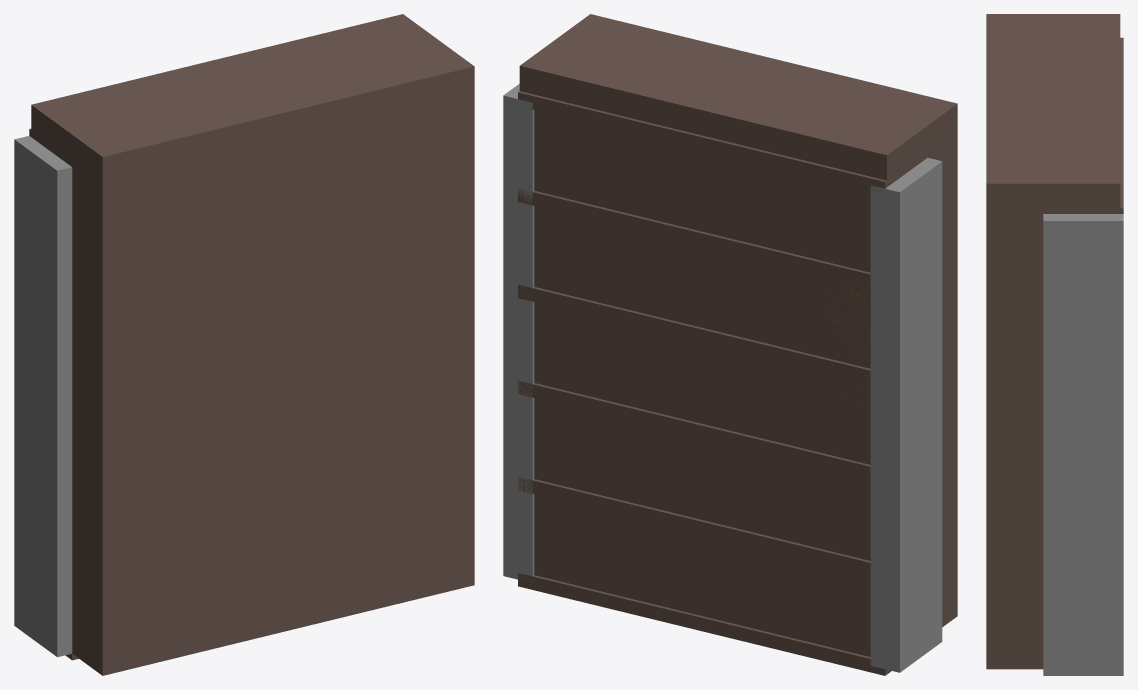
3 renders of one model, left to right at view 1: azimuth 30°, elevation 25°; view 2: azimuth 150°, elevation 25°; view 3: azimuth 270°, elevation 25°, orthographic. The views are drawn at different scales.
Parts seen in each view (by area): view 1: object 3, Cube; view 2: object 3, Cube, Cube.001, Cube.003, Cube.008, Cube.006, Cube.005, Cube.004, Cube.007; view 3: object 3, Cube.001, Cube.008.
Part boxes in pixels (x1=…): object 3: x1=31, y1=14, x2=474, y2=675; Cube: x1=14, y1=136, x2=72, y2=657; object 3: x1=519, y1=14, x2=957, y2=656; Cube: x1=870, y1=157, x2=942, y2=672; Cube.001: x1=503, y1=84, x2=534, y2=581; Cube.003: x1=518, y1=573, x2=891, y2=675; Cube.008: x1=518, y1=91, x2=886, y2=193; Cube.006: x1=518, y1=284, x2=870, y2=383; Cube.005: x1=518, y1=381, x2=870, y2=479; Cube.004: x1=518, y1=477, x2=870, y2=576; Cube.007: x1=518, y1=189, x2=879, y2=287; object 3: x1=986, y1=14, x2=1120, y2=669; Cube.001: x1=1043, y1=214, x2=1123, y2=675; Cube.008: x1=1043, y1=38, x2=1123, y2=213.
Bounding box in the file's own units: 2.16 × 2.7 × 0.6843.
